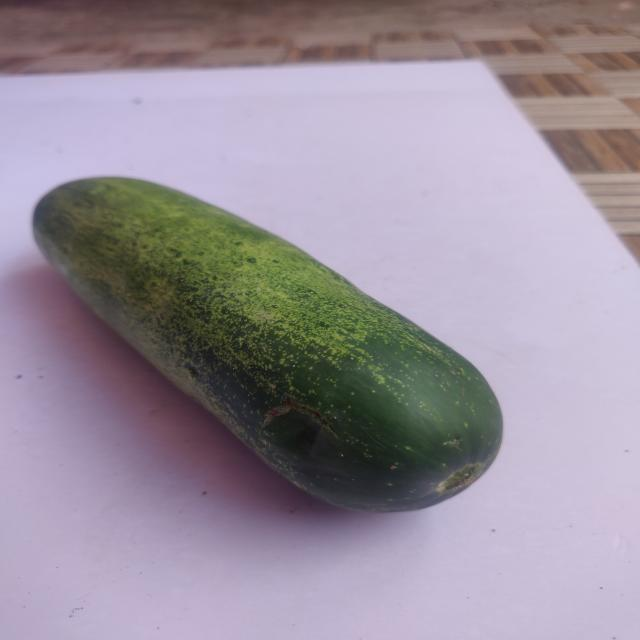Cucumber: (21, 160, 518, 528)
